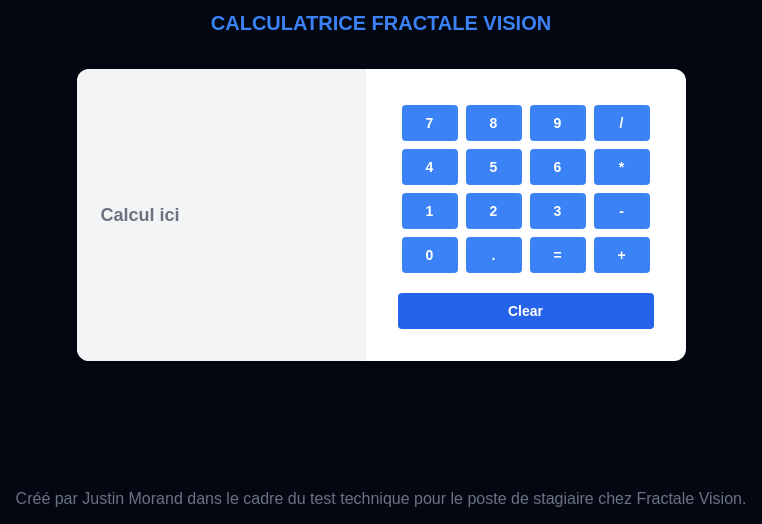
Scenario: Composant Home - Calculatrice Fractale Vision › réinitialise l'entrée lorsque le bouton 'Clear' est pressé
This screenshot has width=762, height=524.
What coordinates should you click on to do the following:
click the button "1"
I would click on:
 (430, 211)
Its box is left=402, top=193, right=458, bottom=229.
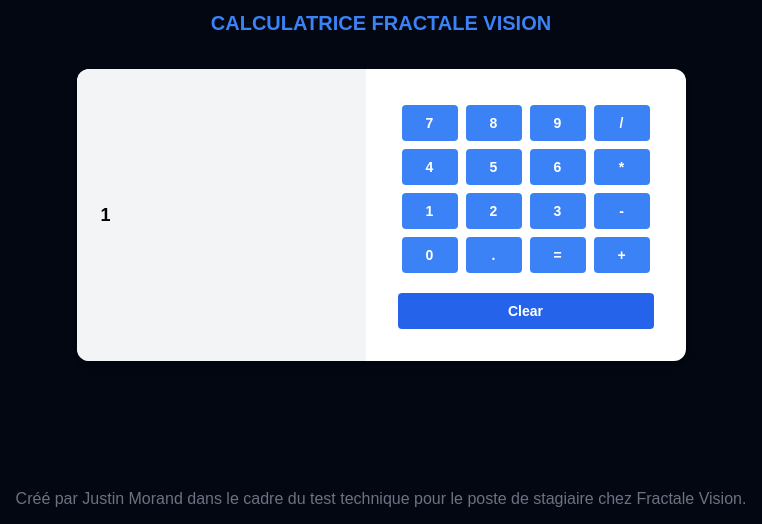
What coordinates should you click on to do the following:
click the button "Clear"
I would click on:
 (526, 311)
Its box is left=398, top=293, right=654, bottom=329.
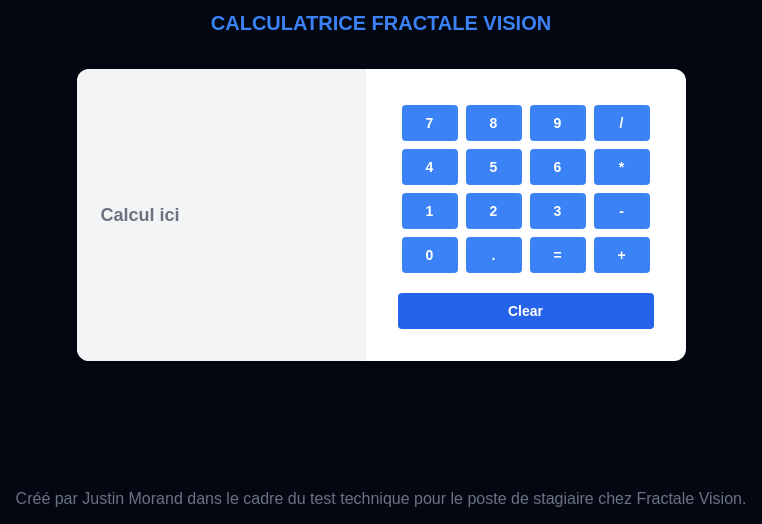
Result: the field with placeholder "Calcul ici" is empty at left=76, top=69, right=366, bottom=361
